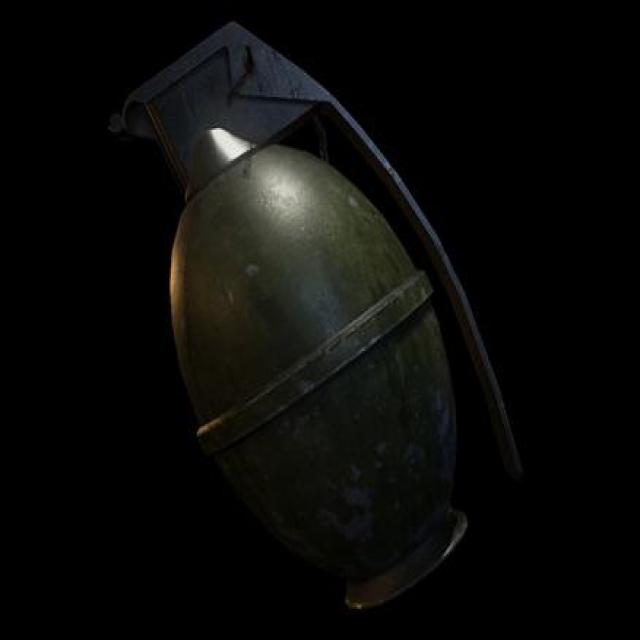grenade: (119, 19, 523, 611)
